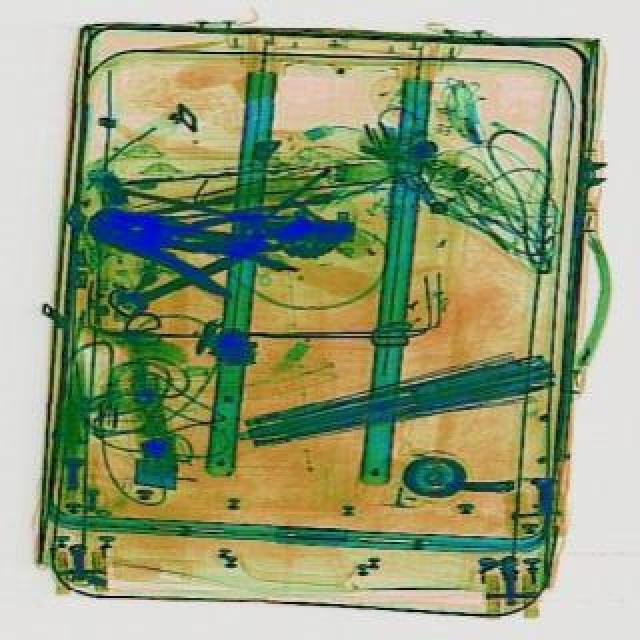scissors: (120, 248, 252, 324)
wrench: (82, 192, 262, 304)
